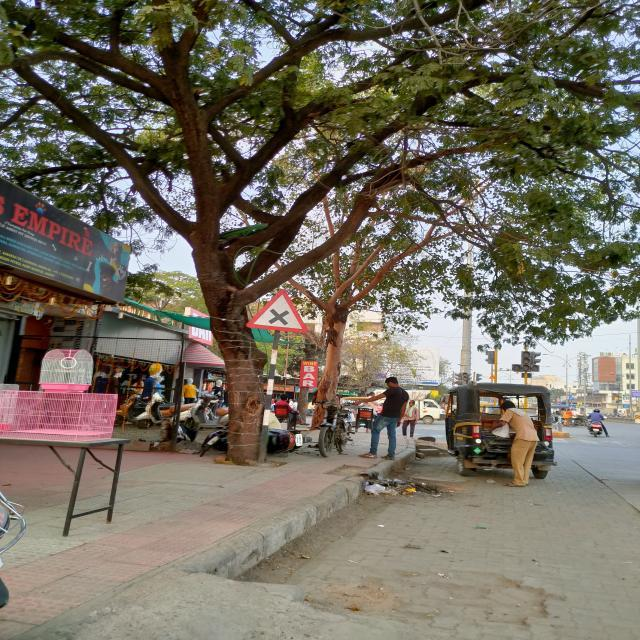cross road: (246, 288, 310, 334)
